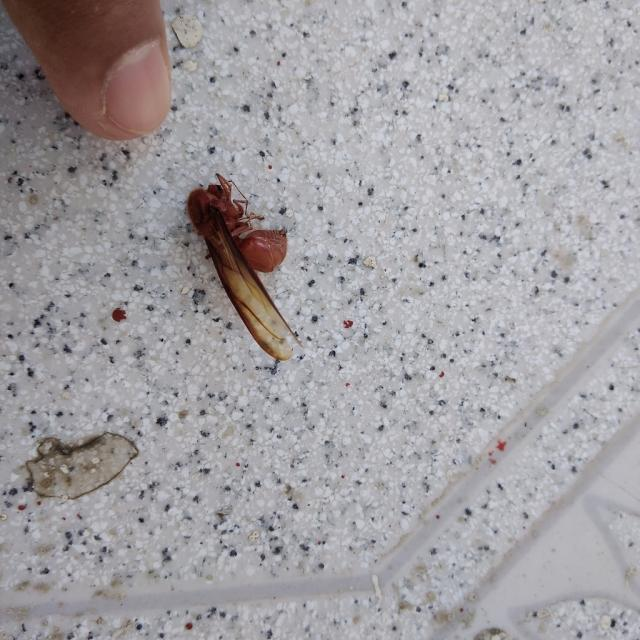Dead-Male-Alate: (187, 172, 302, 367)
